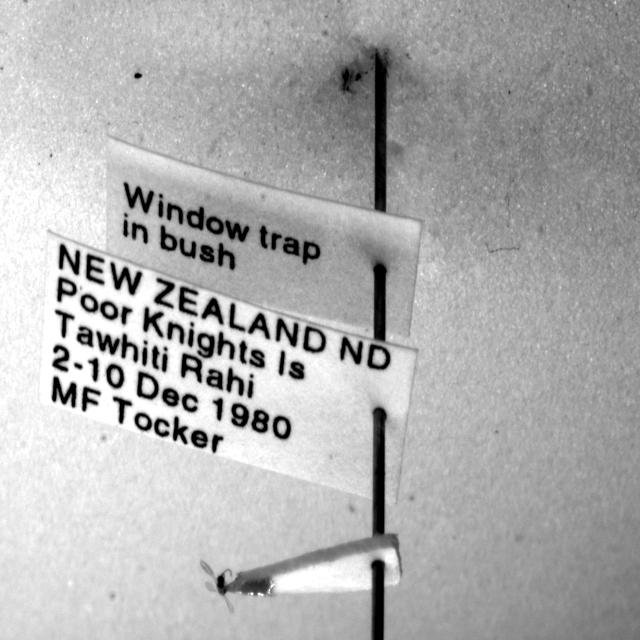typed_label: (40, 232, 416, 502), (106, 139, 421, 336)
